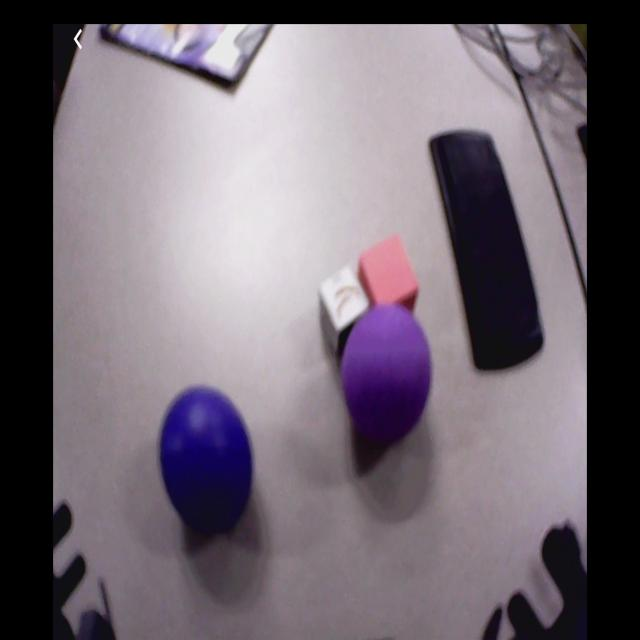ball: (160, 387, 254, 530), (344, 304, 433, 438)
